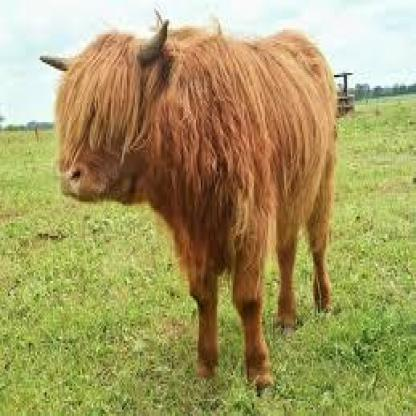cow: (38, 13, 336, 394)
